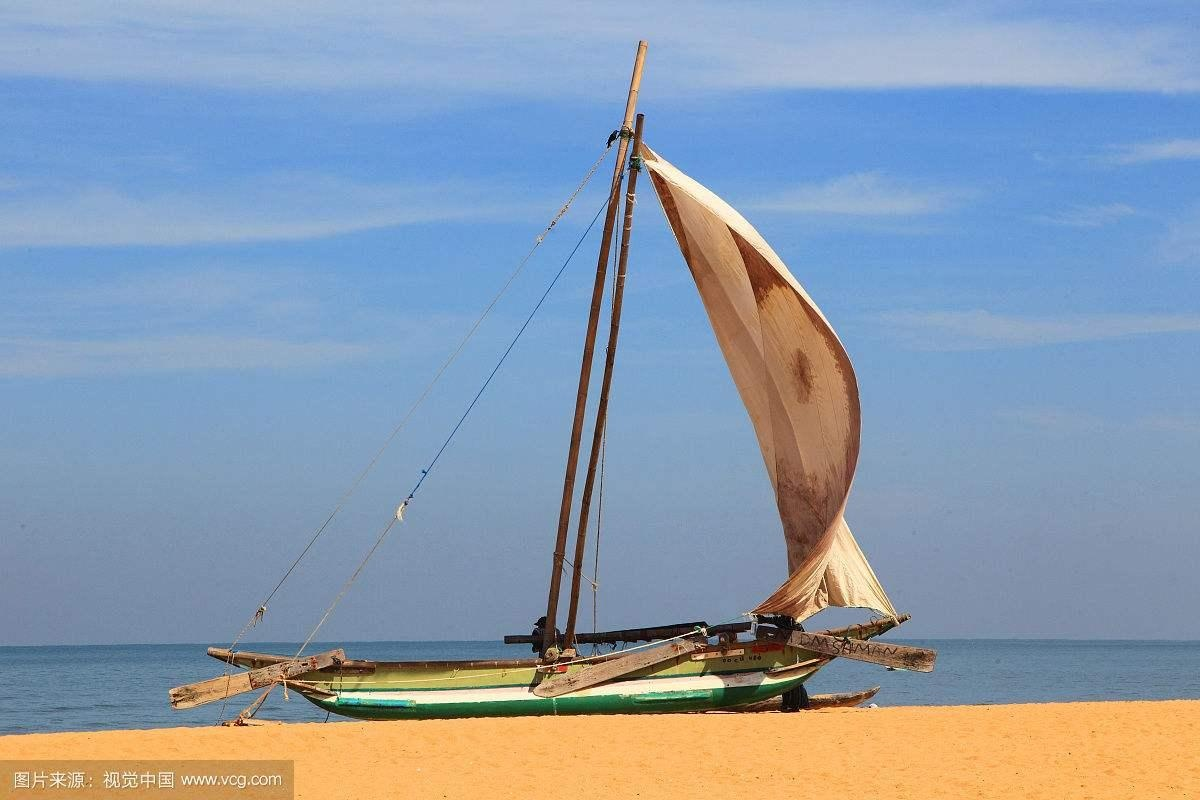fanchuan: (188, 37, 903, 712)
